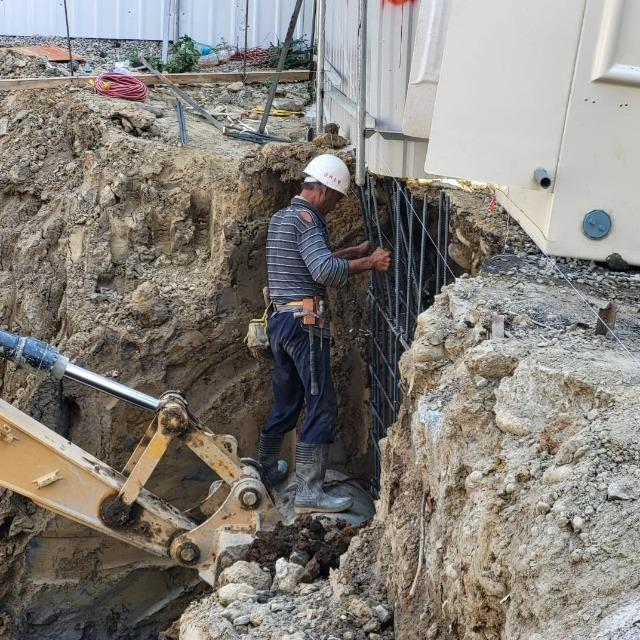Helmet: (303, 153, 356, 214)
NoVest: (262, 206, 332, 307)
